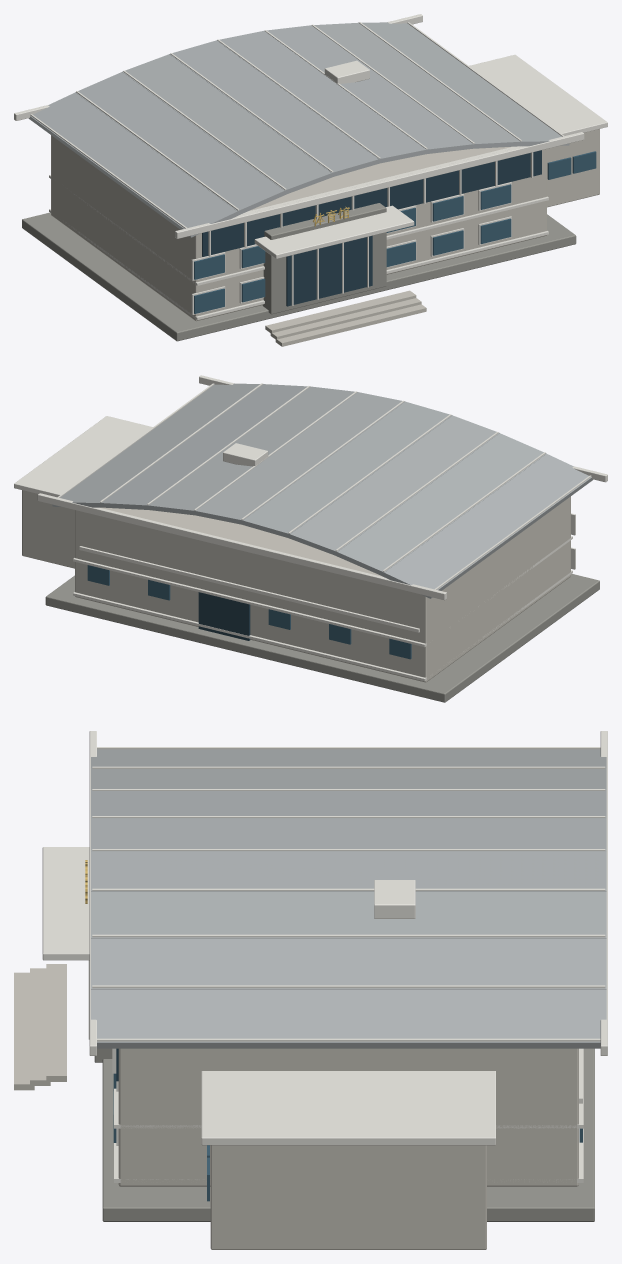
Rendered from b04-gym.glb.
3 views of the same model, one above another, from view 1: azimuth 30°, elevation 25°; view 2: azimuth 150°, elevation 25°; view 3: azimuth 270°, elevation 25° (orthographic). The views are drawn at different scales.
Parts seen in each view (by area): view 1: body, plinth, roof-seg-0, roof-seg-1, roof-seg-2, roof-seg-3, roof-seg-4, clerestory-glass, roof-seg-6, roof-seg-5, roof-seg-7, annex-eave (+29 smaller); view 2: body, plinth, roof-seg-0, roof-seg-1, roof-seg-2, roof-seg-3, roof-seg-4, roof-seg-6, roof-seg-5, roof-seg-7, annex-eave, roof-edge-rear (+15 smaller); view 3: body, roof-seg-7, annex, roof-seg-6, roof-seg-5, annex-eave, roof-seg-4, roof-seg-3, roof-seg-2, plinth, roof-seg-1, roof-seg-0 (+17 smaller).
Boxes of the visible parts, box(x1,y1,x2,y2) form: body: box(51, 135, 546, 321); plinth: box(22, 212, 576, 341); roof-seg-0: box(28, 92, 240, 237); roof-seg-1: box(75, 72, 286, 215); roof-seg-2: box(122, 54, 334, 194); roof-seg-3: box(169, 40, 381, 176); roof-seg-4: box(217, 31, 428, 162); clerestory-glass: box(202, 150, 541, 256); roof-seg-6: box(314, 22, 522, 148); roof-seg-5: box(264, 25, 475, 154); roof-seg-7: box(362, 22, 569, 146); annex-eave: box(469, 54, 607, 135); body: box(75, 496, 570, 682); plinth: box(45, 574, 599, 702); roof-seg-0: box(381, 454, 593, 598); roof-seg-1: box(334, 433, 546, 576); roof-seg-2: box(287, 415, 499, 555); roof-seg-3: box(240, 401, 452, 538); roof-seg-4: box(193, 392, 405, 524); roof-seg-6: box(99, 384, 307, 509); roof-seg-5: box(146, 386, 357, 515); roof-seg-7: box(52, 383, 259, 507); annex-eave: box(14, 416, 152, 497); roof-edge-rear: box(37, 493, 446, 600); body: box(118, 1048, 578, 1186); roof-seg-7: box(91, 989, 606, 1048); annex: box(210, 1145, 486, 1249); roof-seg-6: box(91, 938, 606, 989); roof-seg-5: box(91, 889, 606, 938); annex-eave: box(201, 1071, 495, 1145); roof-seg-4: box(91, 849, 606, 891); roof-seg-3: box(91, 816, 606, 851); roof-seg-2: box(91, 789, 606, 818); plinth: box(102, 1048, 594, 1221); roof-seg-1: box(91, 768, 606, 789); roof-seg-0: box(91, 749, 606, 767).
Size of the model in its own units: 37.1 by 11.01 by 25.81.
